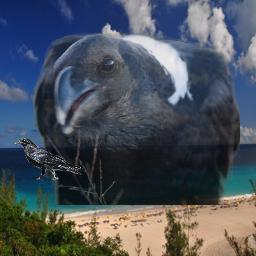Crow: (33, 32, 240, 205), (14, 138, 85, 181)
